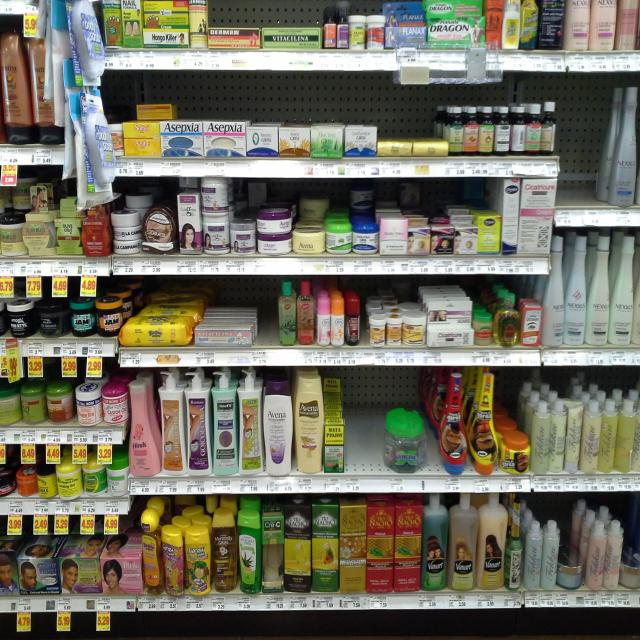void: (564, 86, 598, 226), (348, 377, 380, 492)
